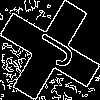J: (25, 25, 77, 71)
